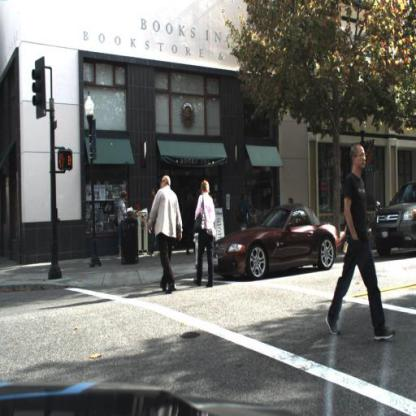car: (207, 200, 341, 290), (370, 179, 416, 258), (196, 180, 216, 282)
pedestrian: (326, 139, 399, 346), (147, 172, 187, 298), (190, 173, 223, 294), (115, 188, 132, 260), (183, 181, 199, 255), (147, 181, 162, 259), (116, 188, 131, 261), (235, 190, 255, 230), (246, 191, 263, 231)
